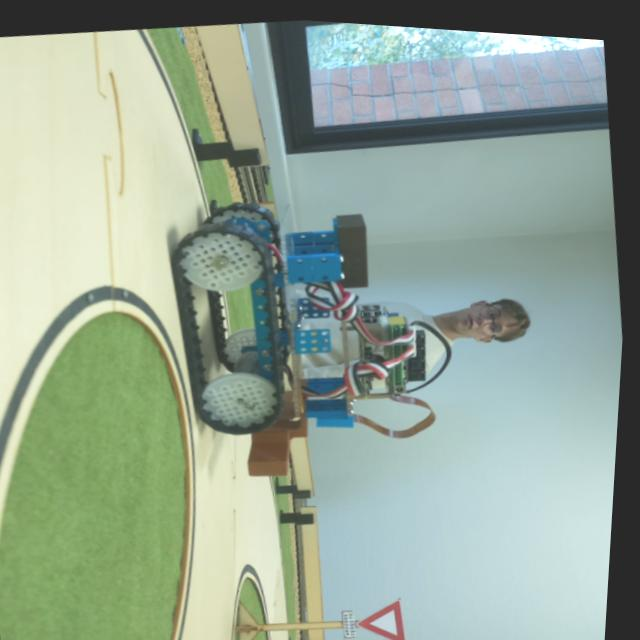obstacle_voiture: (144, 169, 464, 501)
panneau_ceder_passage: (329, 581, 416, 640)
